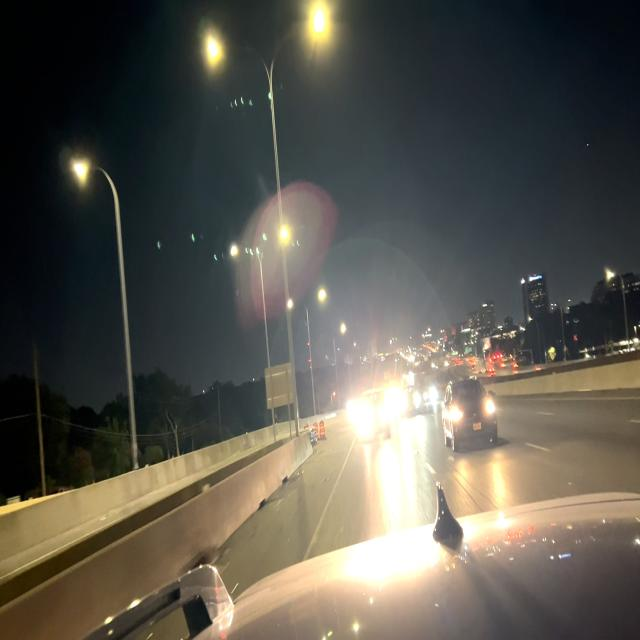back-of-sign: (264, 361, 295, 412)
